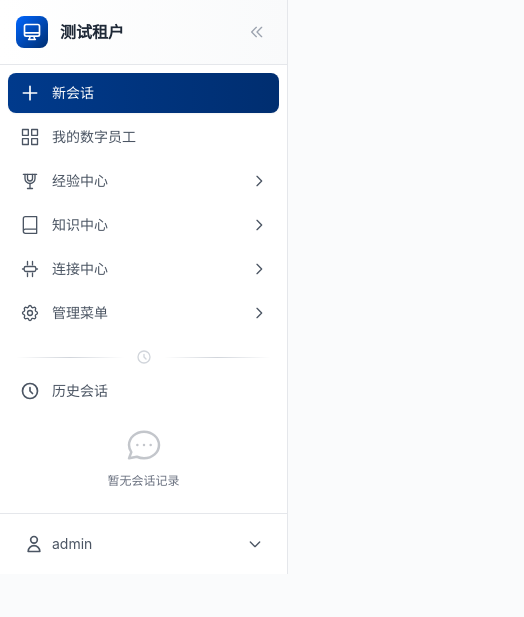
Test case: MenuSidebar - flyout 二级菜单 › hover 切换：从经验中心切到管理菜单，仅管理菜单内容在 DOM 中
The width and height of the screenshot is (524, 617).
Hover over the button "经验中心" at (80, 180), box x1=8 y1=161 x2=279 y2=201
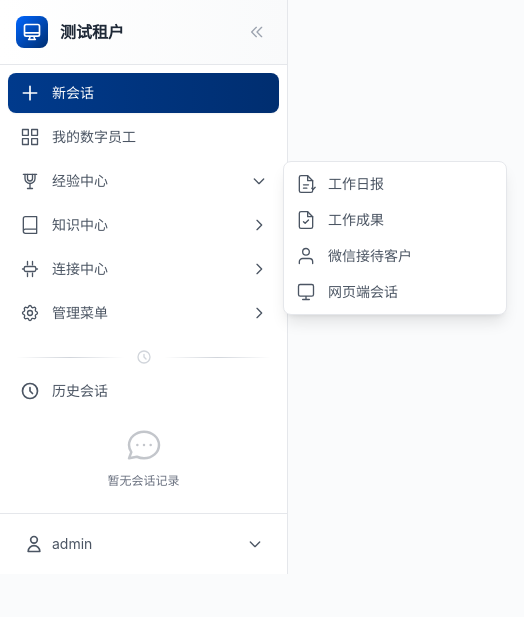
Expected: the element showing "工作日报 工作成果 微信接待客户 网页端会话" is shown, x1=283 y1=161 x2=507 y2=315
Hover over the button "管理菜单" at (80, 312), box x1=8 y1=293 x2=279 y2=333
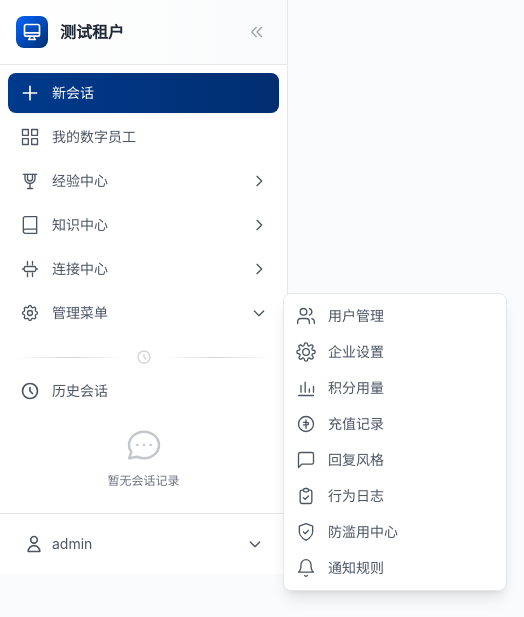
Expected: the element showing "用户管理 企业设置 积分用量 充值记录 回复风格 行为日志 防滥用中心 通知规则" is shown, x1=283 y1=293 x2=507 y2=591
Expected: the button "工作日报" no longer shows "工作日报"
